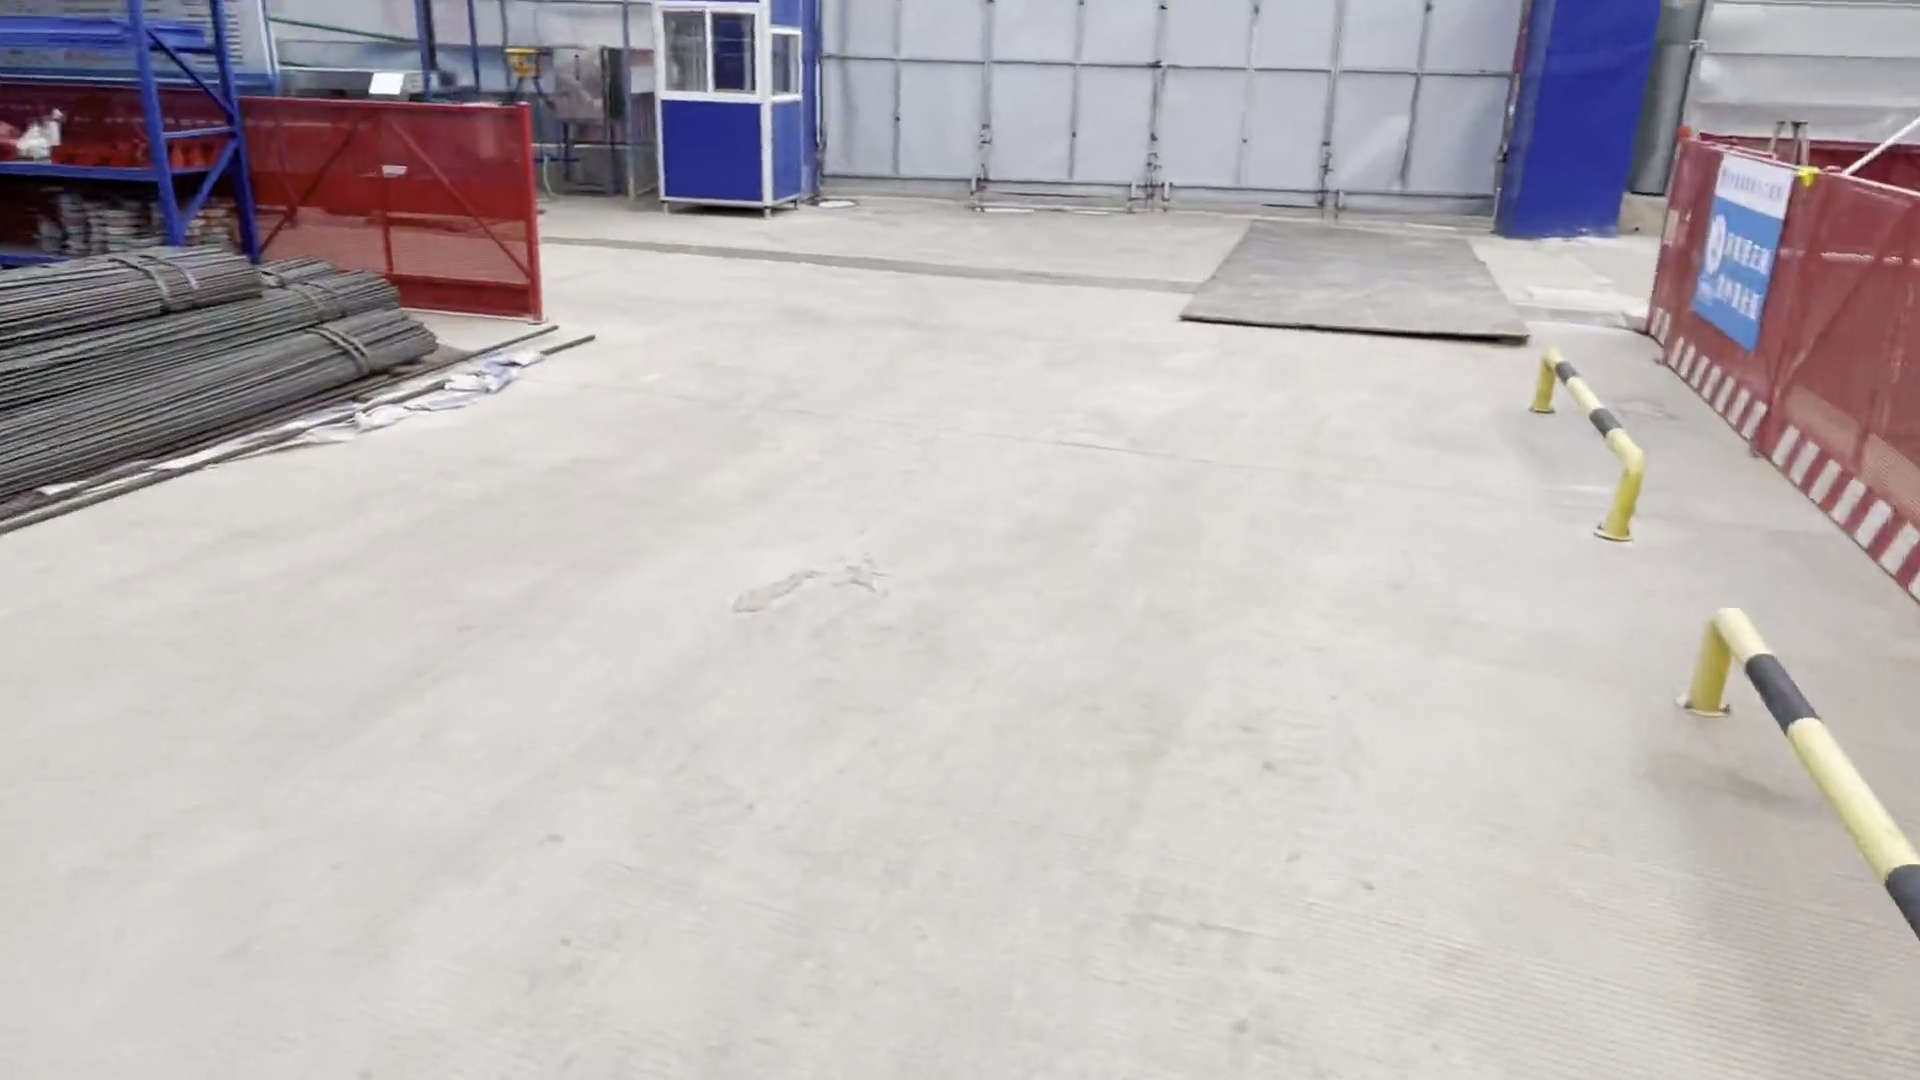ebox: (502, 44, 541, 87)
fence: (1664, 140, 1920, 551), (233, 96, 537, 331)
rebar: (3, 251, 429, 502)
slogan: (1691, 158, 1782, 344)
